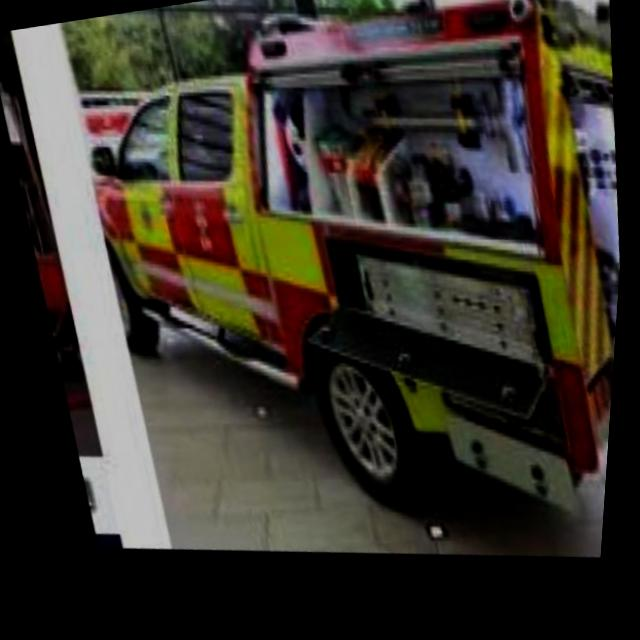emergency: (32, 0, 640, 591)
